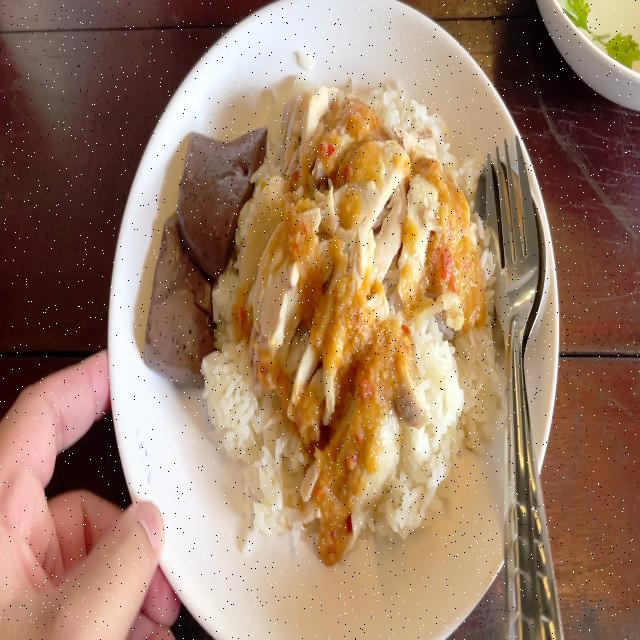boiled_chicken: (248, 96, 441, 490)
boiled_chicken_blood_jelly: (143, 212, 215, 389), (182, 118, 258, 280)
chicken_rice: (139, 55, 515, 569)
